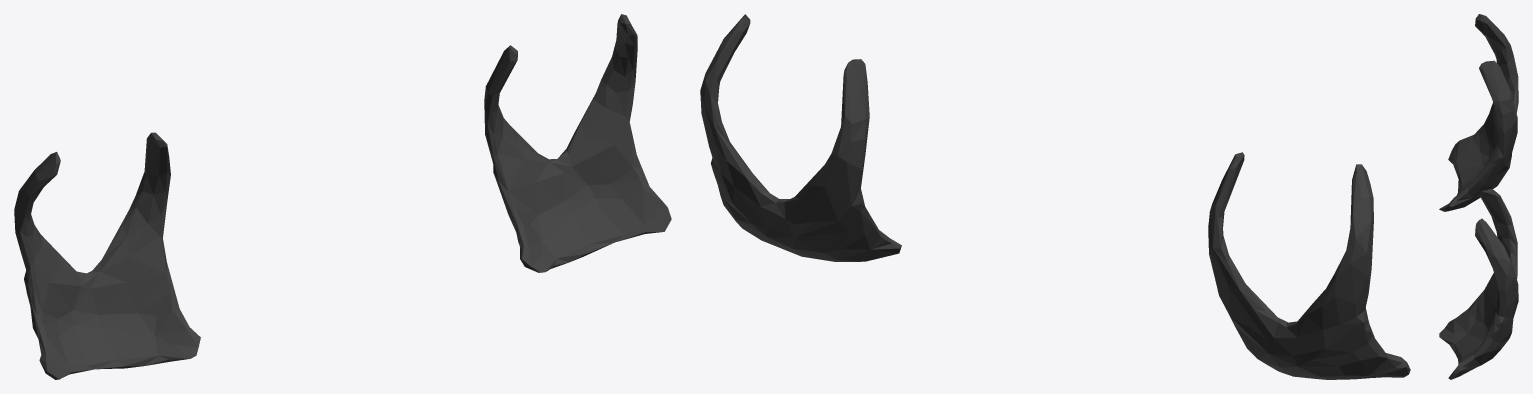
File: lig_distal_digital_anular_FL.glb
The picture shows the model from 3 angles, left to right: view 1: azimuth 30°, elevation 25°; view 2: azimuth 150°, elevation 25°; view 3: azimuth 270°, elevation 25°; orthographic projection. The views are drawn at different scales.
Visible parts, largest first — view 1: lig_distal_digital_anular_FL; view 2: lig_distal_digital_anular_FL; view 3: lig_distal_digital_anular_FL.
Boxes of the visible parts, <box> form: lig_distal_digital_anular_FL: <box>14,14,671,379</box>; lig_distal_digital_anular_FL: <box>700,14,1410,379</box>; lig_distal_digital_anular_FL: <box>1439,14,1518,379</box>.
Size of the model in its own units: 0.00434 by 0.00145 by 0.000643.
Materials: 1 (1 with a texture image).
